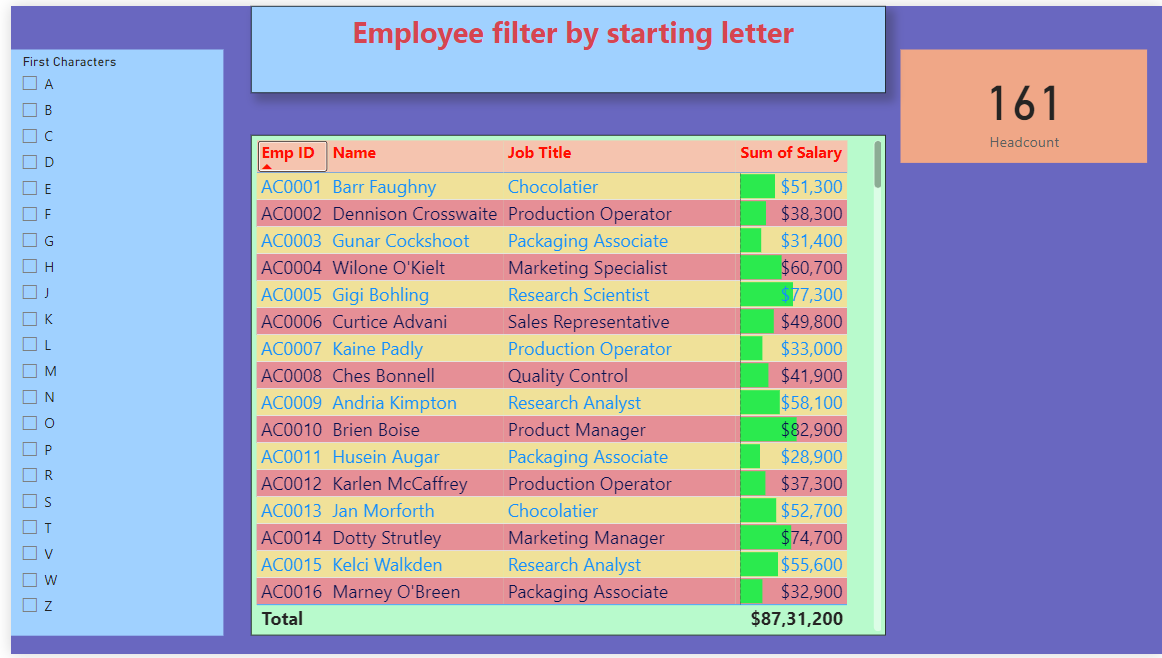

What the dashboard file says about the page in this screenshot:
{"tool":"powerbi","page":{"name":"Q8","canvas":[1280,720],"ordinal":8},"visuals":[{"type":"slicer","fields":{"Values":["staff.First Characters"]},"box":[0,48.5,236.2,651.1],"z":0},{"type":"tableEx","fields":{"Values":["staff.Emp ID","staff.Name","staff.Job Title","Sum(staff.Salary)"]},"box":[266.5,143.8,705.6,555.7],"z":1000},{"type":"card","fields":{"Values":["staff.Headcount"]},"box":[988.8,48.5,274.1,125.7],"z":2000},{"type":"textbox","box":[266.5,0,705.6,96.9],"z":3000}]}

Visuals, with their boxes in screenshot pixels (x1, y1, x2, y2), scaled from the page's 1280x720 canvas onto the 1162x658 screenshot:
slicer - staff.First Characters: <bbox>0, 44, 214, 639</bbox>
tableEx - staff.Emp ID x staff.Name: <bbox>242, 131, 882, 639</bbox>
card - staff.Headcount: <bbox>898, 44, 1146, 159</bbox>
textbox: <bbox>242, 0, 882, 89</bbox>
